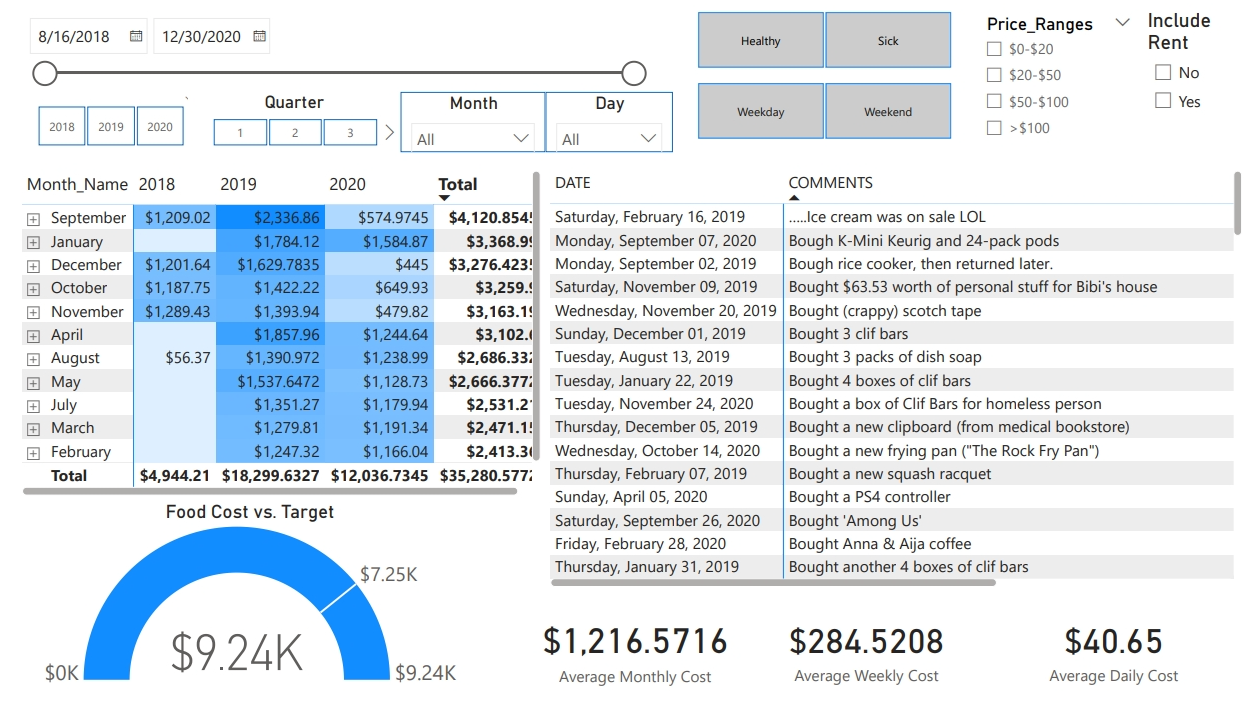

This screenshot's page, from the dashboard's own definition file:
{"tool":"powerbi","page":{"name":"Monthly/Weekly/Daily Info","canvas":[1280,720],"ordinal":1},"visuals":[{"type":"slicer","fields":{"Values":["Calendar_Lookup.Date"]},"box":[5.5,2.7,654.5,82.3],"z":0},{"type":"slicer","fields":{"Values":["Finance_Data.Sick(Boolean)"]},"box":[679.2,0,310.1,71],"z":1000},{"type":"slicer","fields":{"Values":["Calendar_Lookup.Weekday"]},"box":[679.2,72.7,310.1,71.4],"z":2000},{"type":"slicer","fields":{"Values":["Calendar_Lookup.Year"]},"box":[5.5,89.2,190.7,61.7],"z":3000},{"type":"slicer","title":"Quarter","fields":{"Values":["Calendar_Lookup.Quarter"]},"box":[181.1,89.2,218.2,61.7],"z":4000},{"type":"slicer","title":"Month","fields":{"Values":["Calendar_Lookup.Month_Name"]},"box":[399.3,89.2,148.2,61.7],"z":5000},{"type":"slicer","title":"Day","fields":{"Values":["Calendar_Lookup.Day_Name"]},"box":[547.5,89.2,131.7,61.7],"z":6000},{"type":"slicer","fields":{"Values":["Finance_Data.Price_Ranges"]},"box":[989.4,2.7,172.9,141.3],"z":7000},{"type":"slicer","title":"Include Rent","fields":{"Values":["Item_Lookup.NoRent(Boolean)"]},"box":[1162.3,2.7,118,141.3],"z":8000},{"type":"pivotTable","fields":{"Rows":["Calendar_Lookup.Month_Name","Calendar_Lookup.Day_Name"],"Columns":["Calendar_Lookup.Year"],"Values":["Finance_Data.COST"]},"box":[4.9,165.1,542.9,343.6],"z":9000},{"type":"pivotTable","fields":{"Rows":["Finance_Data.DATE"],"Values":["Finance_Data.COMMENTS","Finance_Data.ITEM","Finance_Data.COST"]},"box":[547.8,165.1,721.5,437.8],"z":10000},{"type":"card","fields":{"Values":["Finance_Data.COST average per Month_Name"]},"box":[532.4,602.4,216.8,118],"z":11000},{"type":"card","fields":{"Values":["Finance_Data.COST average per day"]},"box":[1007.2,602.4,251.1,118],"z":12000},{"type":"card","fields":{"Values":["Finance_Data.COST average per End_of_Week"]},"box":[749.2,602.4,258,118],"z":13000},{"type":"gauge","title":"Food Cost vs. Target","fields":{"TargetValue":["Finance_Data.Target_Monthly_Food_Cost"],"MaxValue":["Finance_Data.Total_Costs_Food"],"Y":["Finance_Data.Total_Costs_Food"]},"box":[20.6,509.1,447.3,193.5],"z":13001}]}

Visuals, with their boxes in screenshot pixels (x1, y1, x2, y2), scaled from the page's 1280x720 canvas onto the 1245x703 screenshot:
slicer - Calendar_Lookup.Date: 5, 3, 642, 83
slicer - Finance_Data.Sick(Boolean): 661, 0, 962, 69
slicer - Calendar_Lookup.Weekday: 661, 71, 962, 141
slicer - Calendar_Lookup.Year: 5, 87, 191, 147
"Quarter" slicer: 176, 87, 388, 147
"Month" slicer: 388, 87, 533, 147
"Day" slicer: 533, 87, 661, 147
slicer - Finance_Data.Price_Ranges: 962, 3, 1131, 141
"Include Rent" slicer: 1131, 3, 1244, 141
pivotTable - Calendar_Lookup.Month_Name x Calendar_Lookup.Day_Name: 5, 161, 533, 497
pivotTable - Finance_Data.DATE x Finance_Data.COMMENTS: 533, 161, 1235, 589
card - Finance_Data.COST average per Month_Name: 518, 588, 729, 702
card - Finance_Data.COST average per day: 980, 588, 1224, 702
card - Finance_Data.COST average per End_of_Week: 729, 588, 980, 702
"Food Cost vs. Target" gauge: 20, 497, 455, 686
